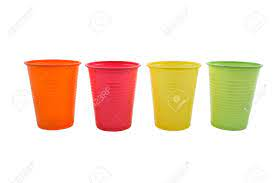plastic: (24, 59, 82, 131), (206, 61, 264, 132), (85, 60, 141, 131), (146, 61, 202, 131)
